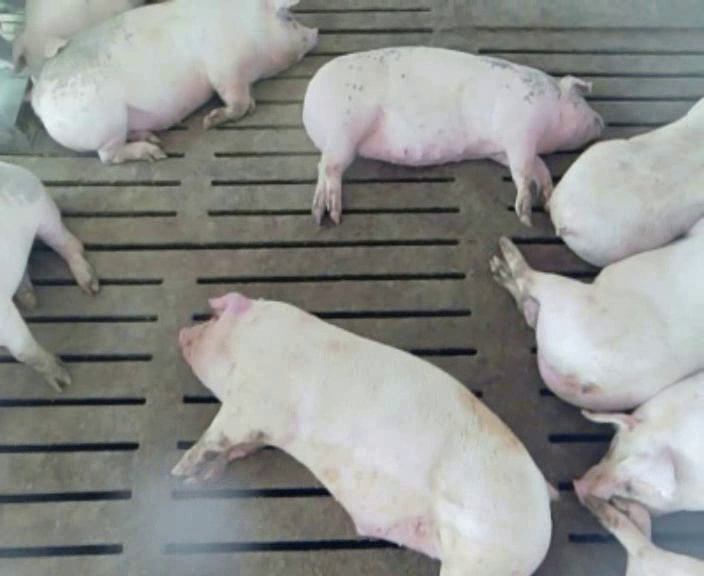pig: (173, 293, 550, 574), (303, 48, 602, 224), (31, 2, 316, 162), (490, 219, 703, 410), (548, 98, 703, 265), (575, 371, 703, 513), (13, 1, 140, 79)
